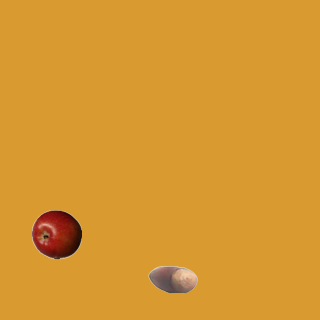Apple Braeburn: (31, 209, 81, 259)
Hazelnut: (147, 254, 197, 304)
